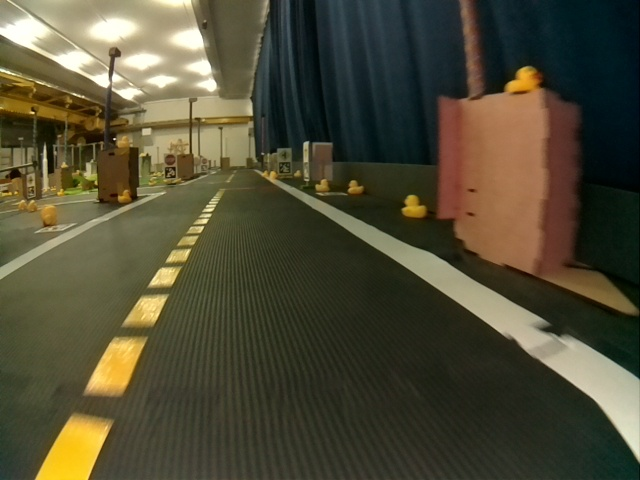Duckie: (506, 69, 542, 93), (402, 196, 426, 216), (41, 206, 54, 225), (349, 181, 362, 193), (119, 190, 129, 201), (317, 180, 326, 191), (118, 136, 127, 144), (271, 172, 280, 180), (18, 200, 27, 208), (294, 170, 303, 178), (262, 172, 272, 178), (30, 201, 35, 210)
QR code: (39, 223, 66, 233), (165, 168, 174, 178)
Stop sign: (166, 155, 174, 165)
